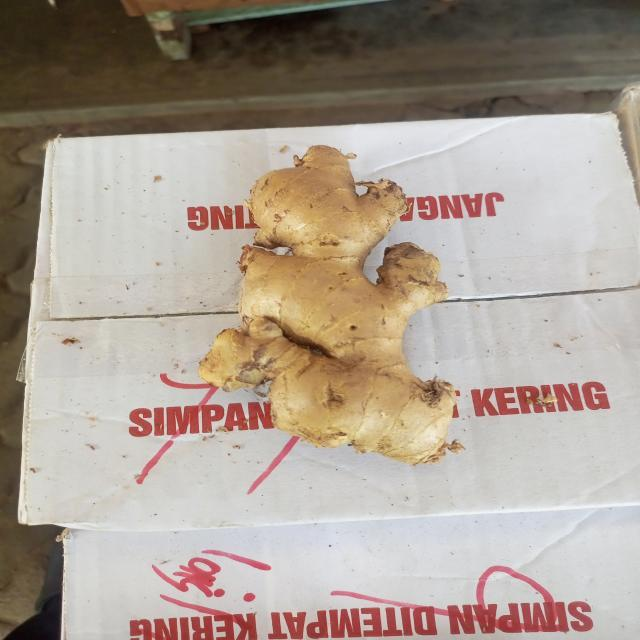ginger: (215, 147, 455, 462)
